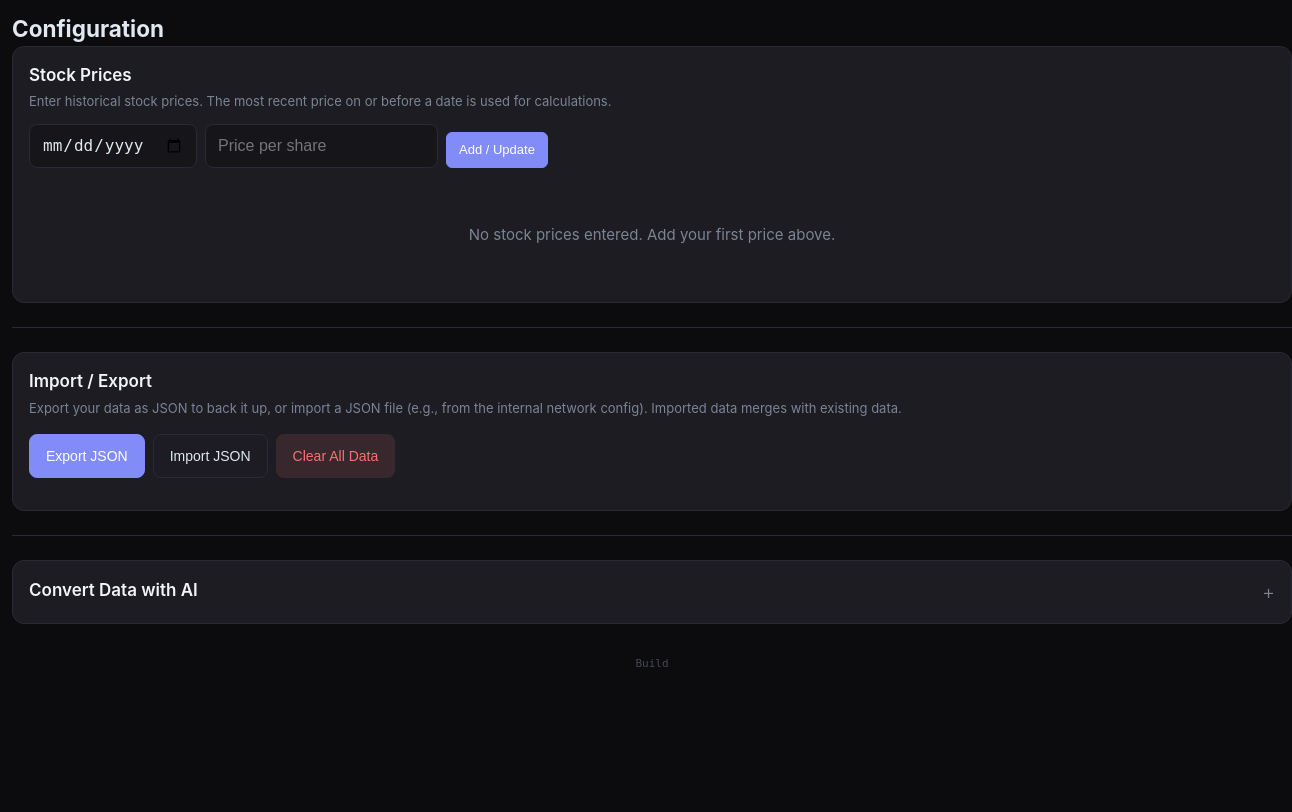
ConfigPage › can add a new stock price
Expected: the heading "Stock Prices" is shown, [29,65,132,85]
Type "2025-06-01" into the date field named "Stock price date" at (113, 146), box [29,124,197,168]
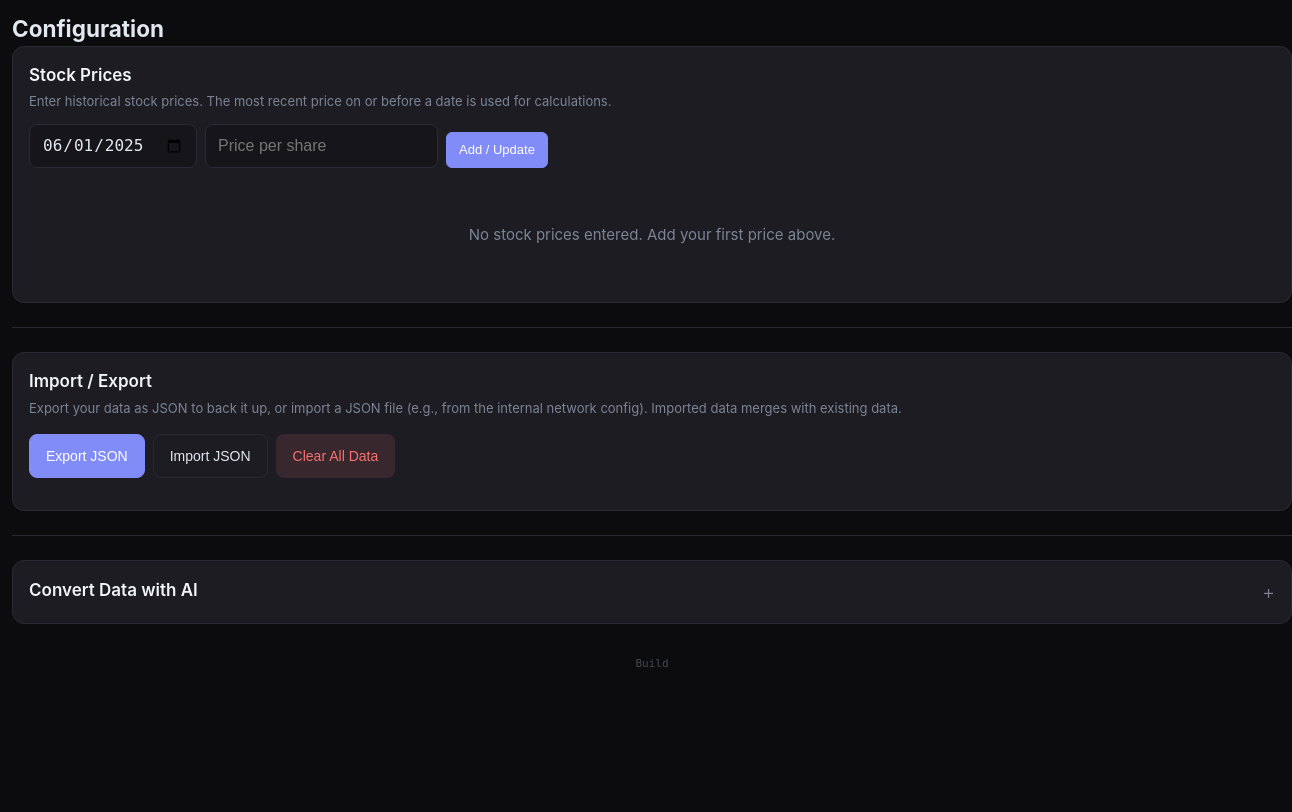
Type "30" into the number field labelled "Price per share" at (322, 146), box [205,124,438,168]
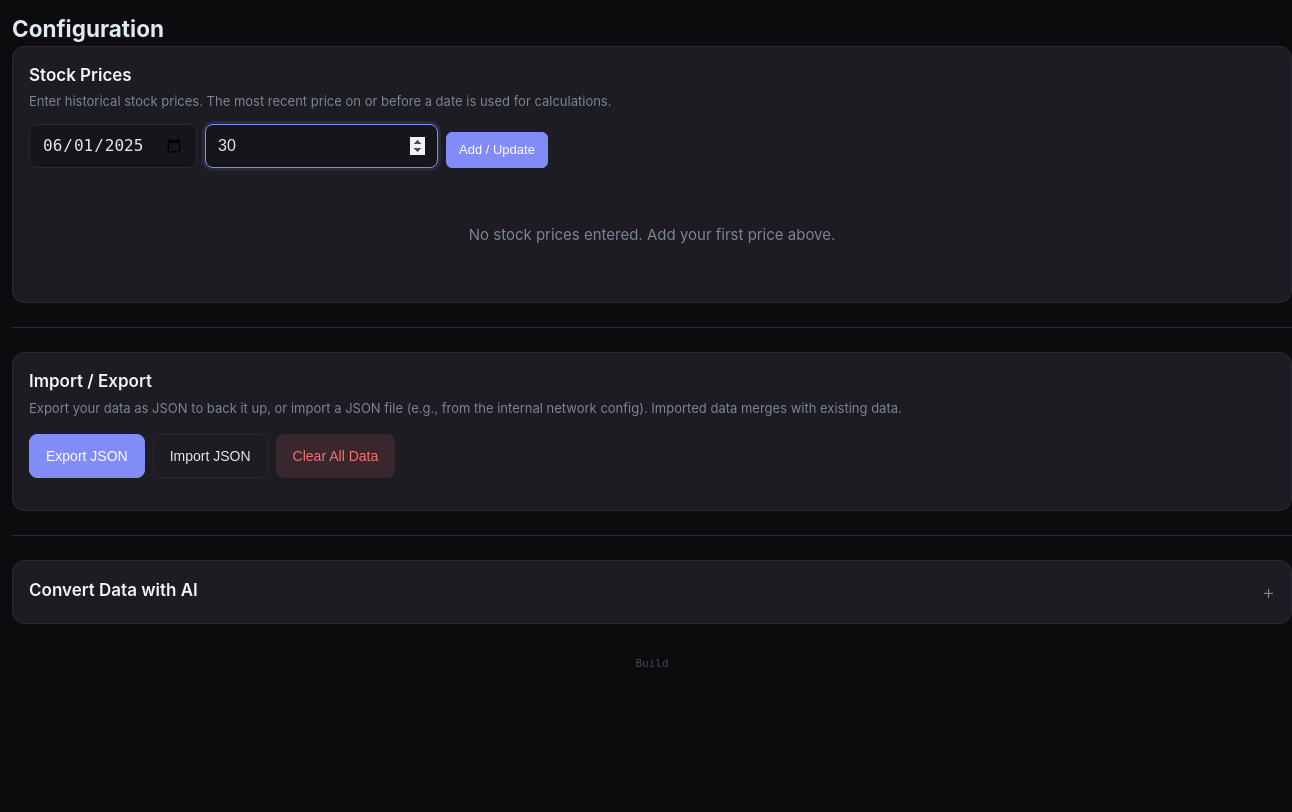
Click the button "Add / Update" at (497, 150), box [446,132,548,168]
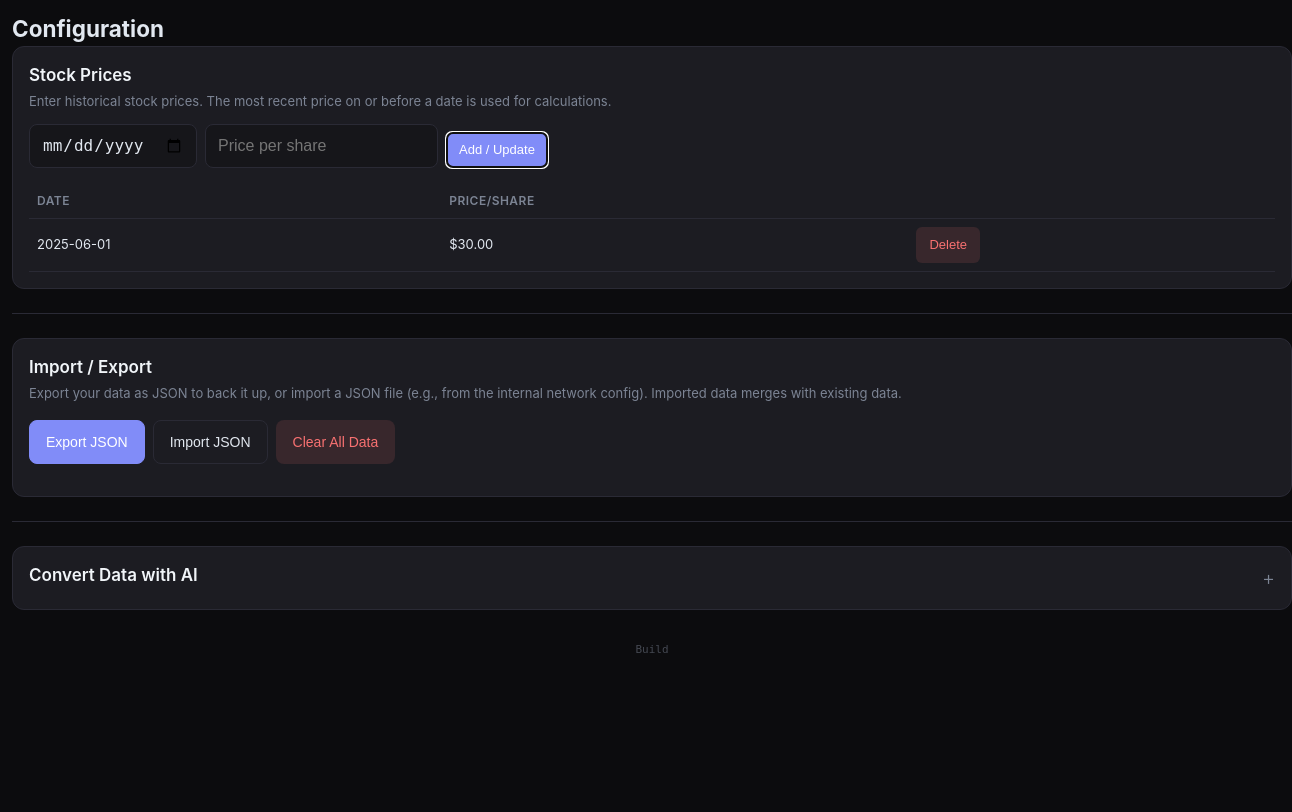
Now the text "2025-06-01" is shown, box [29,218,441,271]
Now the text "$30.00" is shown, box [441,218,908,271]
